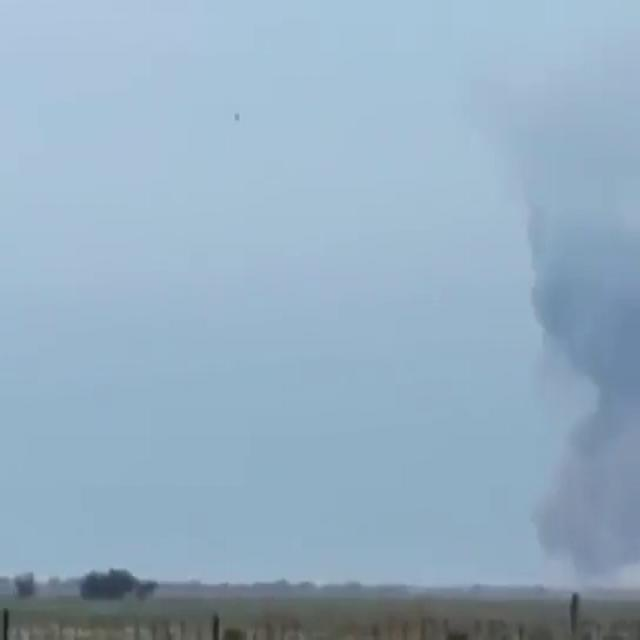Smoke: (531, 254, 640, 594)
